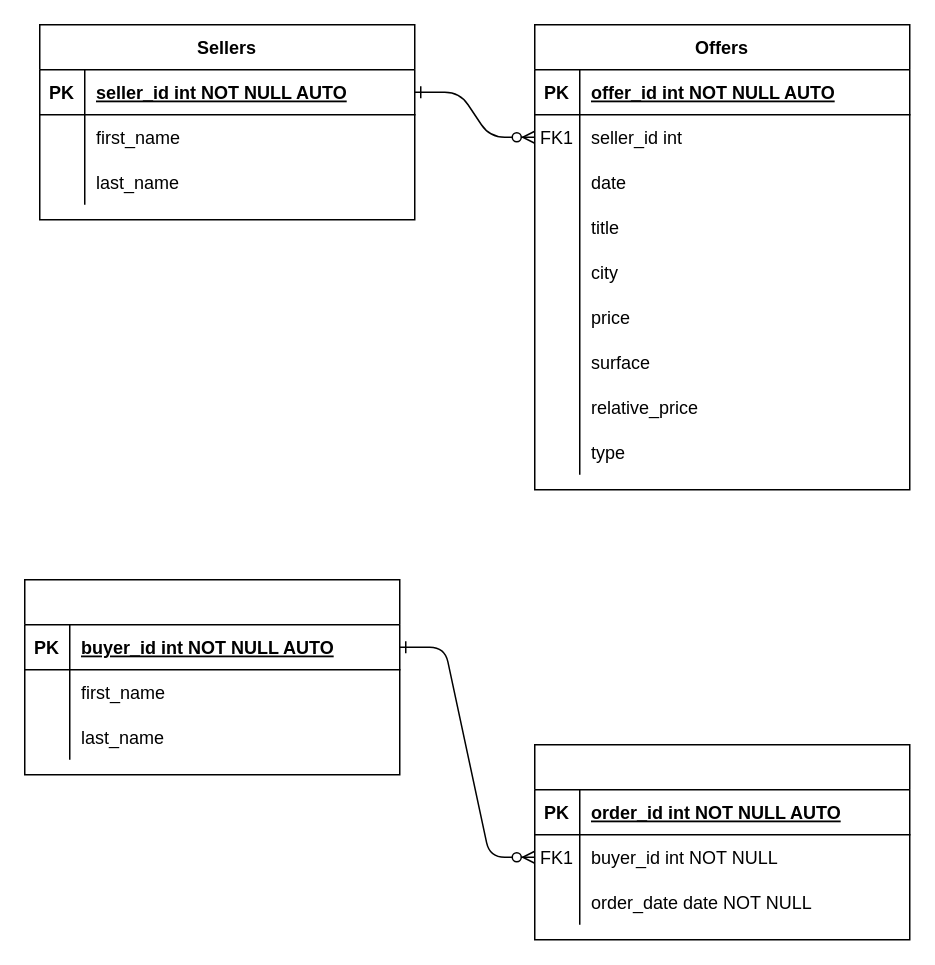
Some shapes in this 935 by 965 pixel diagram are drawn without their labels. Here are the shapes that lost their labels. From the top down, the box of each, then its label:
(23, 578, 400, 775): Buyers
(533, 743, 910, 940): Orders
